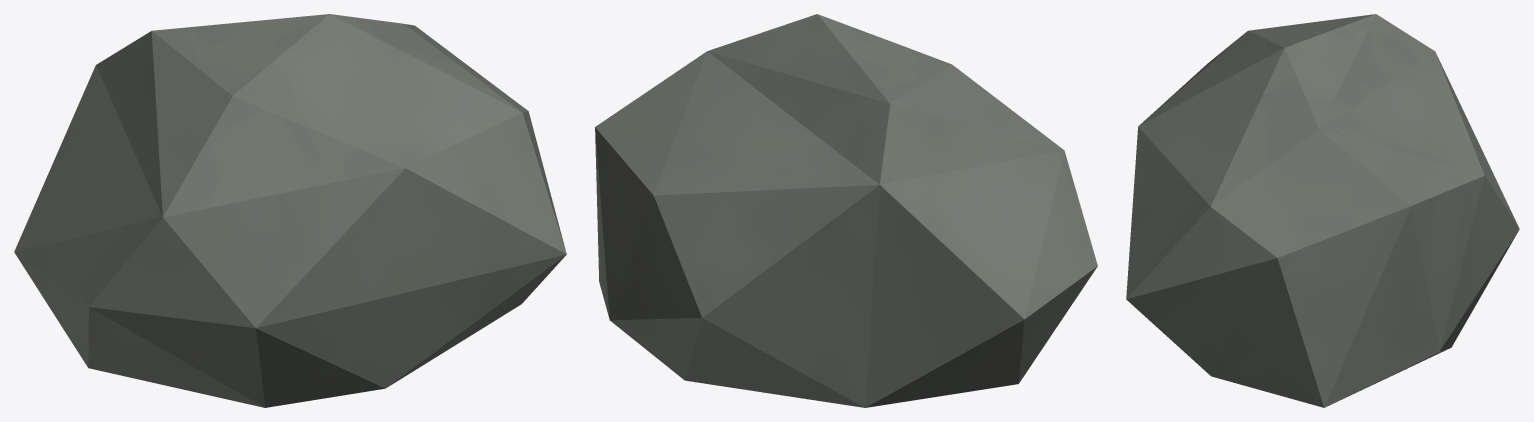
File: NA_Rock_2.glb
3 views of the same model, side by side, from view 1: azimuth 30°, elevation 25°; view 2: azimuth 150°, elevation 25°; view 3: azimuth 270°, elevation 25° (orthographic). The views are drawn at different scales.
Visible parts, largest first — view 1: NA_Rock_2; view 2: NA_Rock_2; view 3: NA_Rock_2.
Part boxes in pixels (x1,y1,x2,y2): NA_Rock_2: [14, 14, 566, 407]; NA_Rock_2: [595, 14, 1097, 407]; NA_Rock_2: [1126, 14, 1519, 407].
Bounding box in the file's own units: 0.879 × 0.5981 × 0.7246.
Materials: 1 (1 with a texture image).
